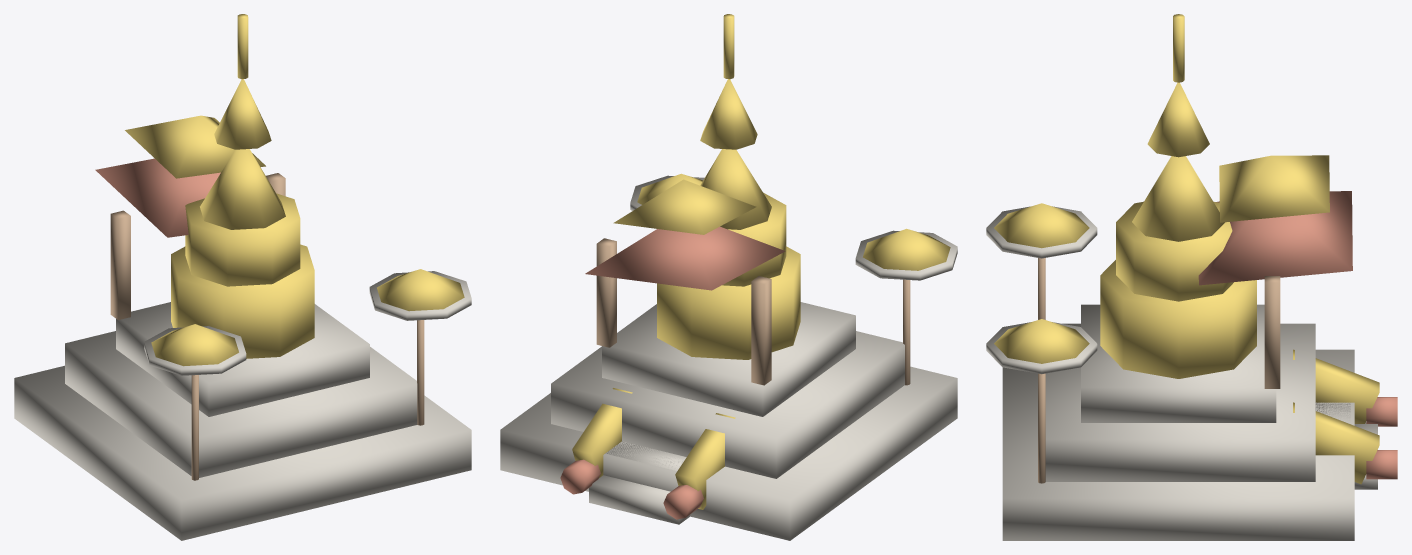
Rendered from doi_suthep.glb.
The picture shows the model from 3 angles, left to right: view 1: azimuth 30°, elevation 25°; view 2: azimuth 150°, elevation 25°; view 3: azimuth 270°, elevation 25°; orthographic projection. The views are drawn at different scales.
Visible parts, largest first — view 1: base1, base2, base3, chedi_base, chedi_tier1, lanna_roof1, chedi_spire1, lanna_roof2, parasol_top_1, parasol_top_0, chedi_spire2, front_pillar_l (+5 smaller); view 2: base1, base2, base3, chedi_base, lanna_roof1, lanna_roof2, chedi_spire1, parasol_top_0, stair_step1, chedi_spire2, front_pillar_l, chedi_tier1 (+10 smaller); view 3: base1, base2, chedi_base, base3, lanna_roof1, lanna_roof2, chedi_tier1, chedi_spire1, parasol_top_0, parasol_top_1, chedi_spire2, naga_right_body (+10 smaller).
Part boxes in pixels (x1,y1,x2,y2): base1: [14, 365, 471, 540]; base2: [65, 331, 417, 477]; base3: [116, 302, 369, 416]; chedi_base: [171, 244, 314, 358]; chedi_tier1: [185, 193, 300, 286]; lanna_roof1: [95, 158, 220, 237]; chedi_spire1: [200, 149, 285, 229]; lanna_roof2: [125, 115, 265, 178]; parasol_top_1: [377, 269, 464, 311]; parasol_top_0: [151, 324, 238, 366]; chedi_spire2: [214, 79, 271, 149]; front_pillar_l: [110, 210, 130, 320]; base1: [500, 366, 957, 540]; base2: [551, 331, 904, 478]; base3: [602, 302, 855, 416]; chedi_base: [657, 246, 800, 359]; lanna_roof1: [585, 226, 785, 290]; lanna_roof2: [613, 179, 756, 234]; chedi_spire1: [700, 149, 771, 229]; parasol_top_0: [863, 228, 950, 270]; stair_step1: [589, 475, 690, 524]; chedi_spire2: [700, 79, 757, 149]; front_pillar_l: [751, 276, 771, 385]; chedi_tier1: [722, 192, 786, 286]; base1: [1002, 349, 1354, 540]; base2: [1045, 323, 1315, 481]; chedi_base: [1100, 260, 1256, 378]; base3: [1081, 304, 1276, 422]; lanna_roof1: [1198, 191, 1352, 285]; lanna_roof2: [1219, 155, 1329, 222]; chedi_tier1: [1116, 201, 1233, 301]; chedi_spire1: [1132, 156, 1224, 241]; parasol_top_0: [994, 203, 1089, 248]; parasol_top_1: [994, 319, 1089, 363]; chedi_spire2: [1147, 82, 1209, 157]; naga_right_body: [1293, 402, 1379, 484].
Size of the model in its own units: 0.984 by 1.27 by 1.05.
